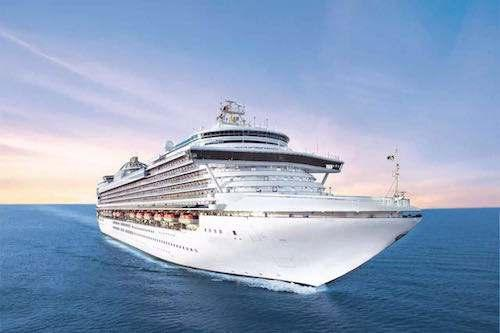youlun: (94, 101, 419, 288)
